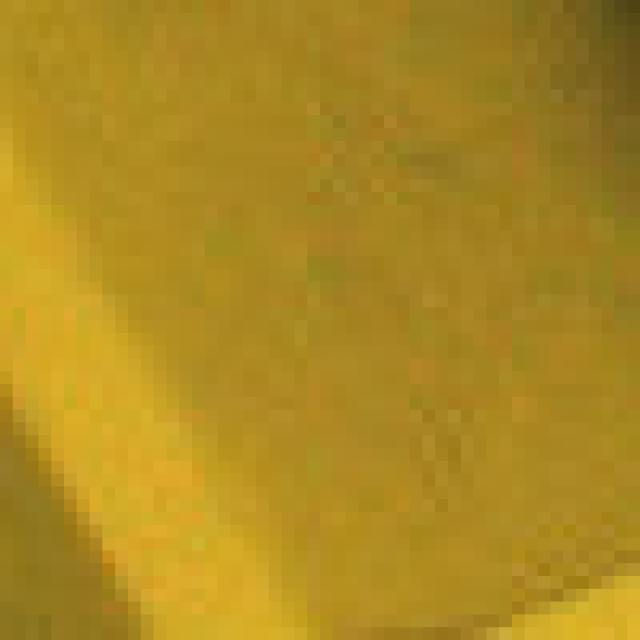fire: (0, 33, 640, 547)
